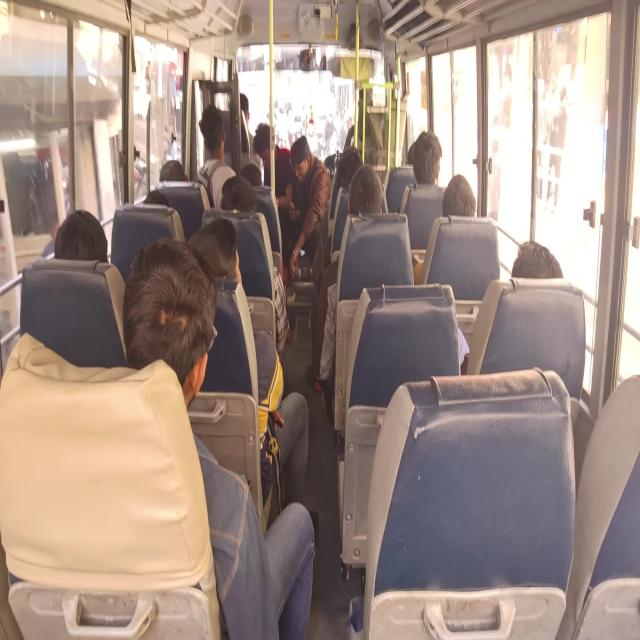person: (117, 235, 214, 410), (188, 212, 249, 292), (52, 202, 112, 273), (508, 230, 566, 290), (346, 154, 391, 228), (442, 165, 481, 223), (196, 99, 230, 158), (410, 125, 442, 183), (222, 174, 256, 220), (254, 118, 276, 177), (290, 130, 315, 179), (334, 146, 363, 184), (159, 158, 191, 190), (356, 75, 380, 117), (140, 180, 171, 212), (236, 87, 253, 132), (246, 162, 266, 191), (405, 134, 418, 170)
